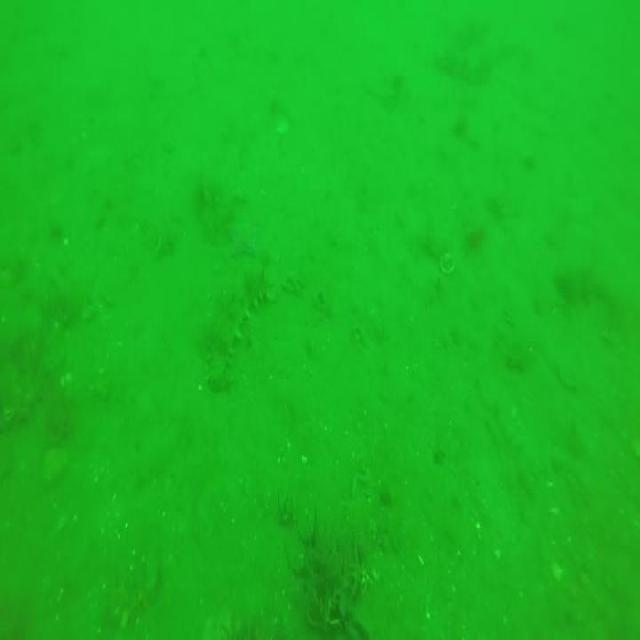holothurian: (205, 272, 280, 392)
scallop: (274, 110, 290, 132), (442, 252, 458, 274)
starfish: (224, 207, 258, 253)
